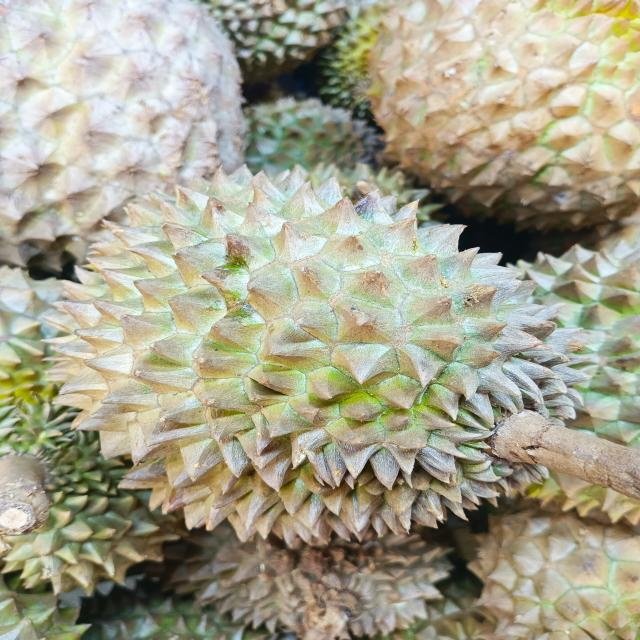mature: (42, 157, 588, 545), (0, 0, 245, 269), (369, 0, 640, 229), (0, 368, 179, 595), (172, 531, 452, 640), (470, 509, 640, 640)
